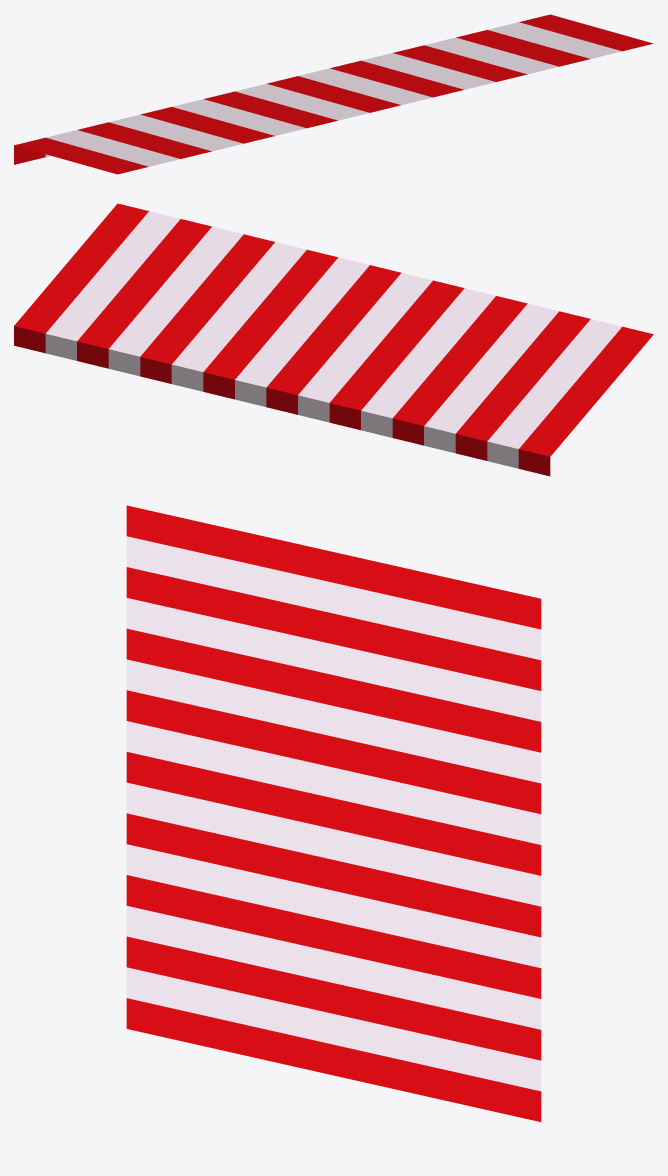
The model's file is front.fbx.
3 views of the same model, one above another, from view 1: azimuth 30°, elevation 25°; view 2: azimuth 150°, elevation 25°; view 3: azimuth 270°, elevation 25° (orthographic). The views are drawn at different scales.
Parts seen in each view (by area): view 1: Plane; view 2: Plane; view 3: Plane.
Part boxes in pixels (x1=…): Plane: x1=14, y1=14, x2=653, y2=174; Plane: x1=14, y1=203, x2=653, y2=476; Plane: x1=126, y1=505, x2=541, y2=1121.
Bounding box in the file's own units: 2000 × 236 × 669.
